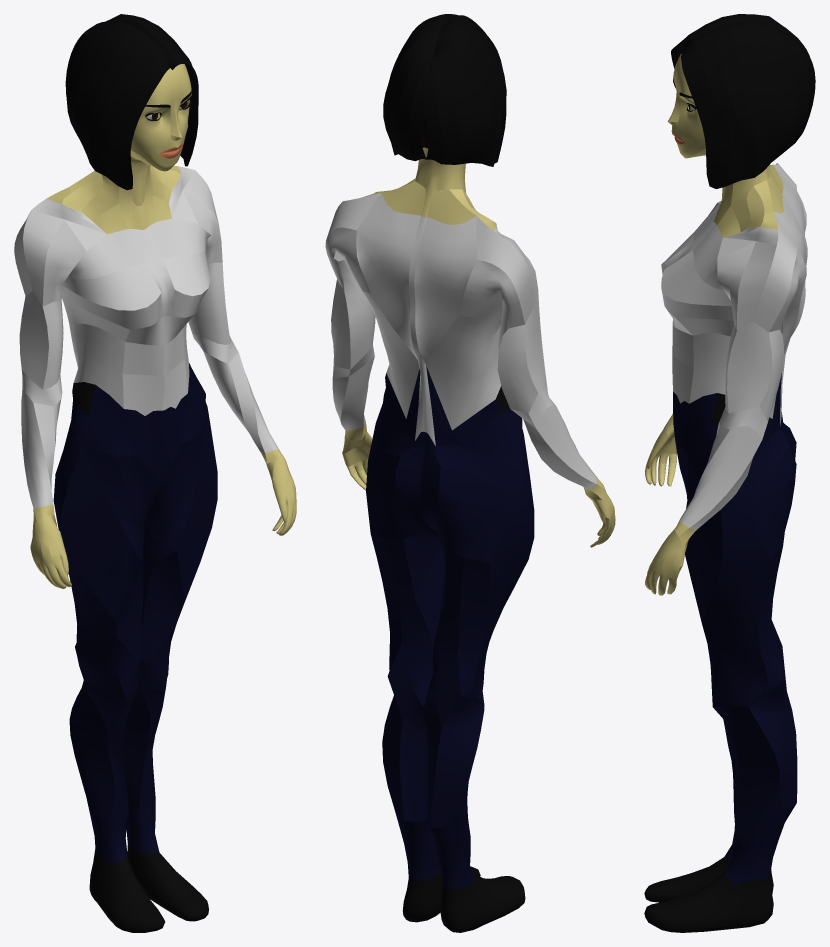
Rendered from cabeza gira izquierda.obj.
The picture shows the model from 3 angles, left to right: view 1: azimuth 30°, elevation 25°; view 2: azimuth 150°, elevation 25°; view 3: azimuth 270°, elevation 25°; orthographic projection. The views are drawn at different scales.
Parts seen in each view (by area): view 1: Piel.006; view 2: Piel.006; view 3: Piel.006.
Part boxes in pixels (<box>): Piel.006: <box>14,14,296,932</box>; Piel.006: <box>325,14,615,932</box>; Piel.006: <box>644,14,815,932</box>.
Bounding box in the file's own units: 1.02 × 3.26 × 0.5662.
